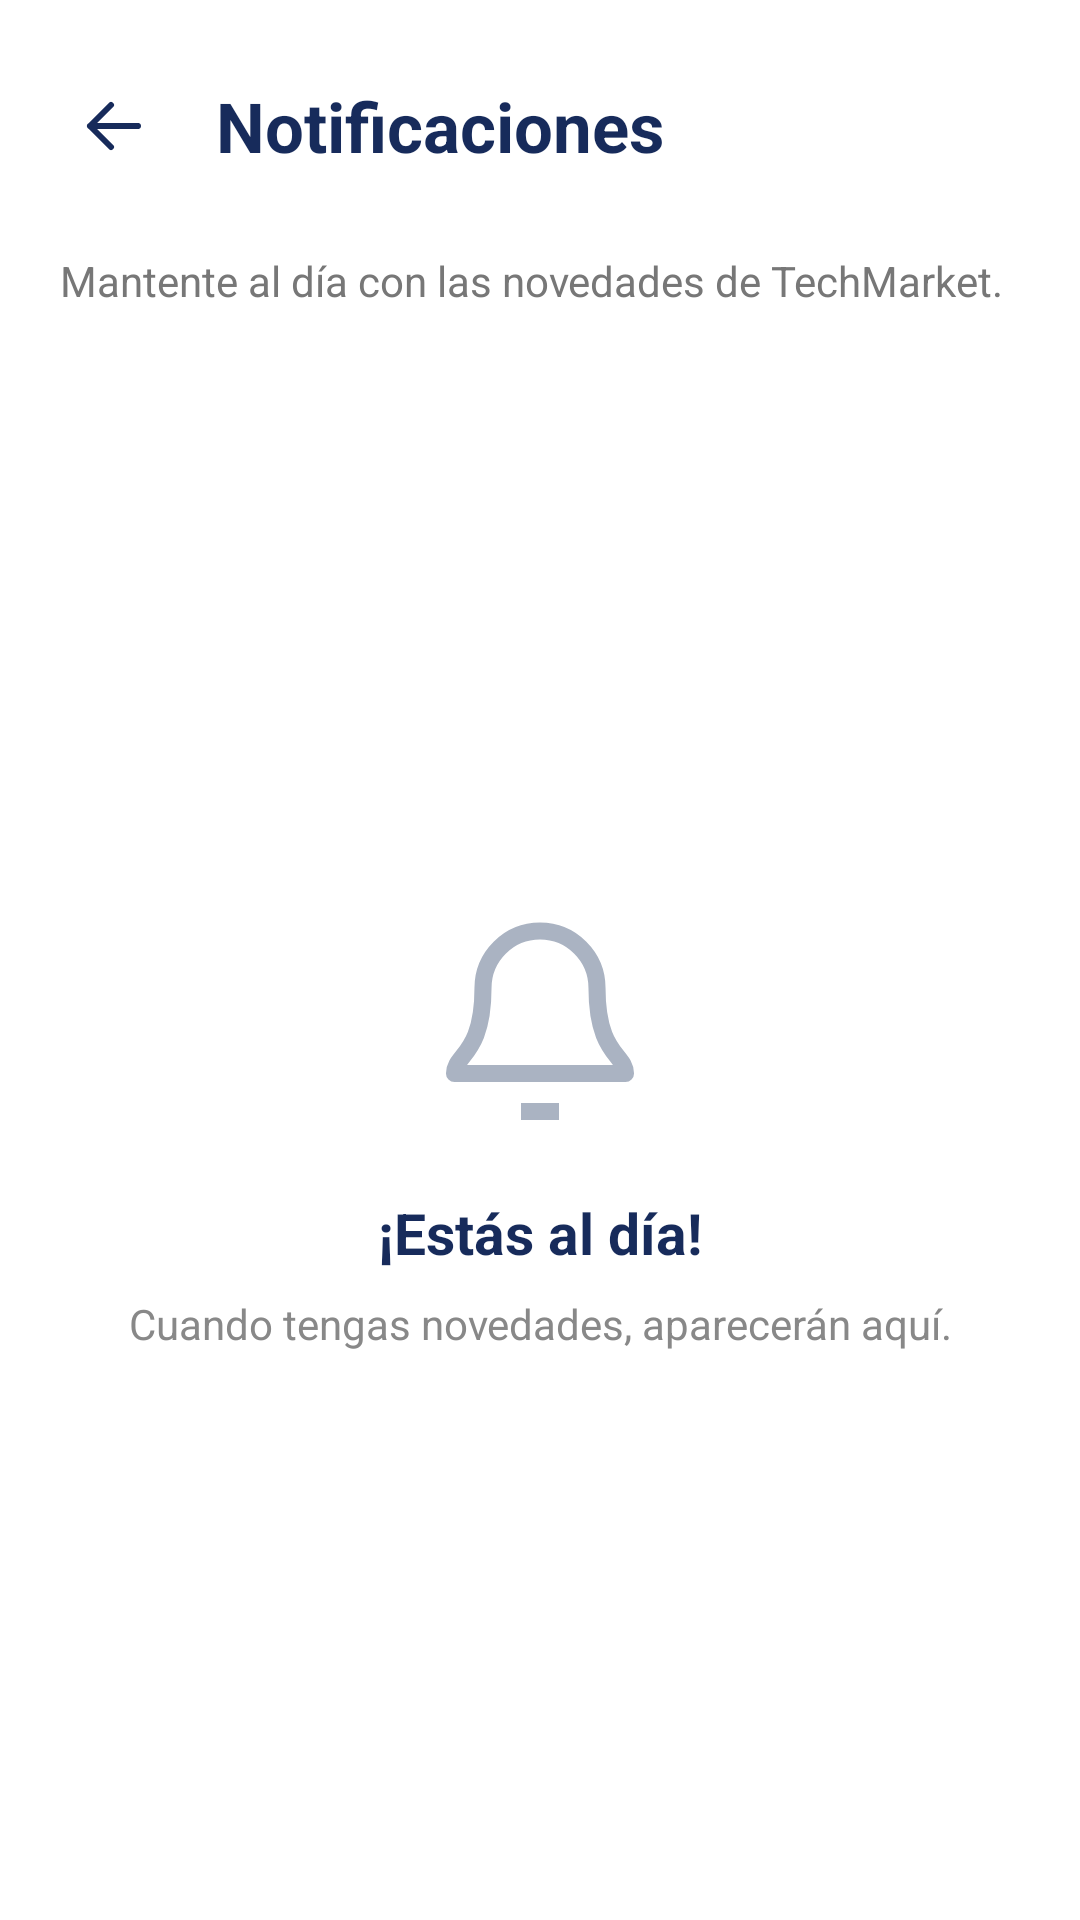

Where icons sit on this 1080x1920 app screen, as {"x1": x1, "y1": y1, "x2": x2, "y2": y2}:
Sin notificaciones: {"x1": 446, "y1": 922, "x2": 634, "y2": 1120}
Volver: {"x1": 87, "y1": 102, "x2": 141, "y2": 150}
